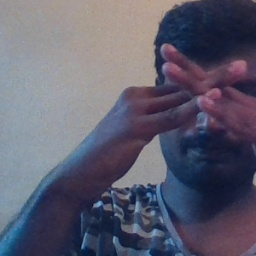W: (126, 36, 256, 150)
